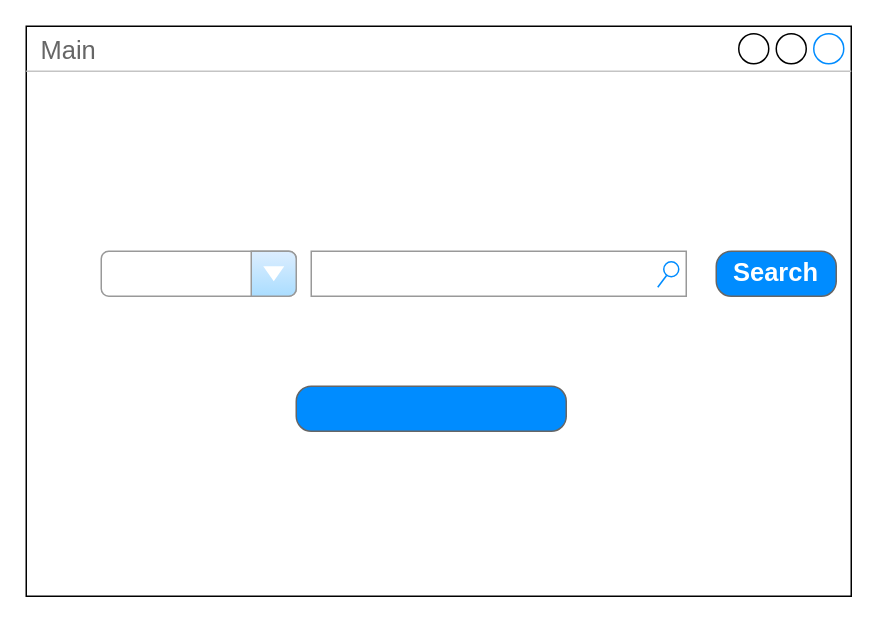
Some shapes in this 878 by 623 pixel diagram are drawn without their labels. The box of each missing label's shape, as (x1, y1, x2, y2) in pixels:
Add a new Movie: (295, 385, 566, 431)
Search All: (100, 250, 296, 296)
